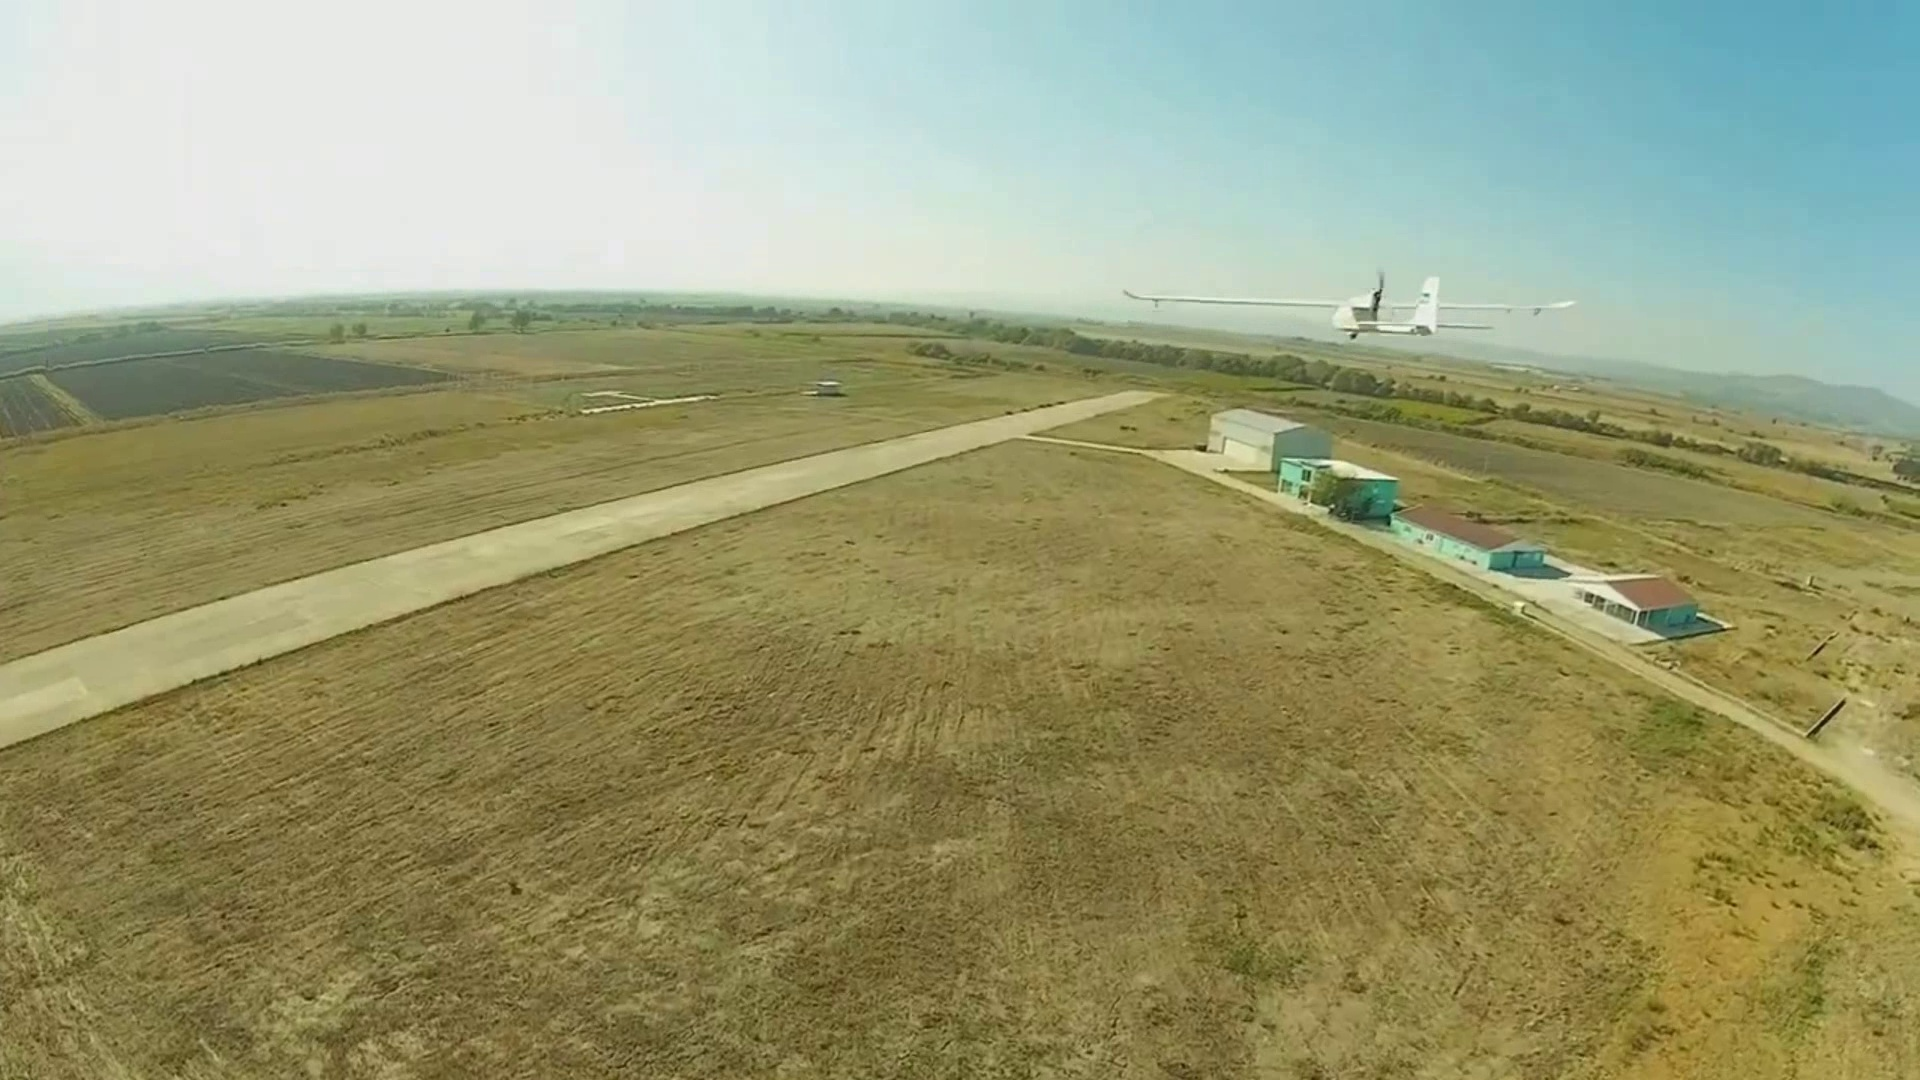airplane: (1113, 265, 1581, 345), (1335, 269, 1439, 342)
